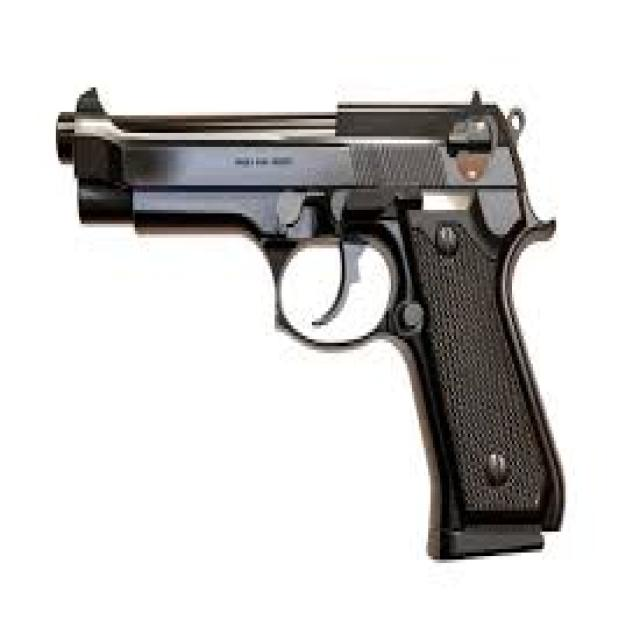gun: (49, 87, 593, 572)
